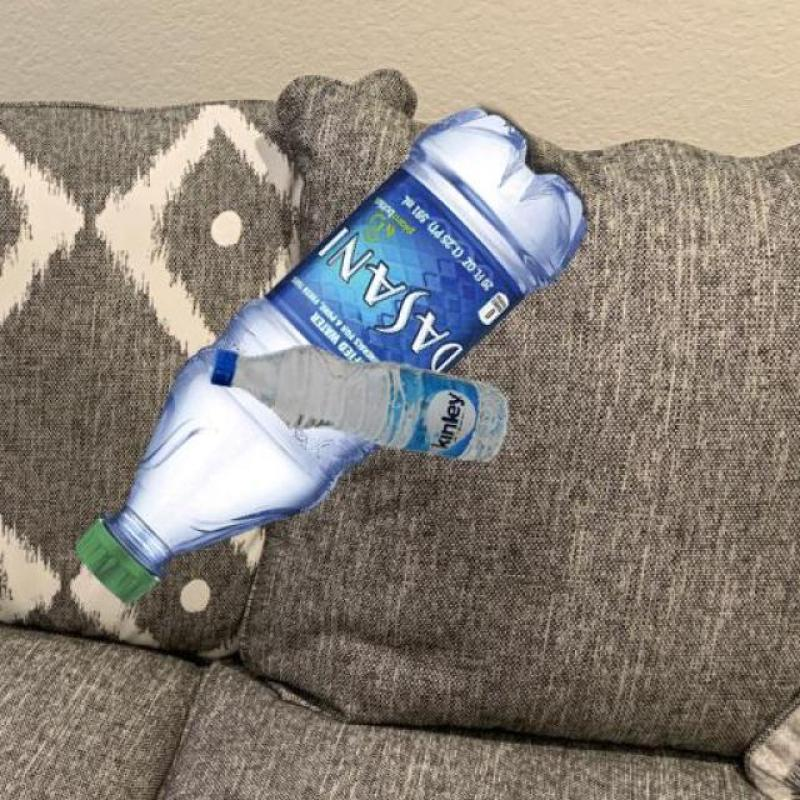botella: (78, 111, 583, 599), (208, 345, 507, 465)
